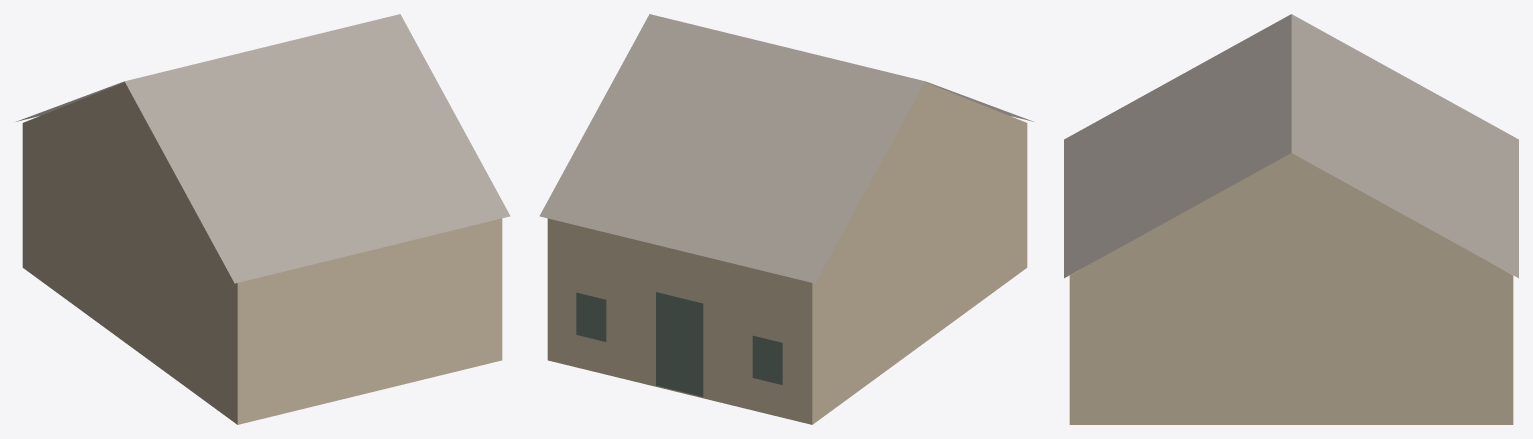
File: recon_1835_south_w1_023__recommended_1835.glb
3 views of the same model, side by side, from view 1: azimuth 30°, elevation 25°; view 2: azimuth 150°, elevation 25°; view 3: azimuth 270°, elevation 25° (orthographic). The views are drawn at different scales.
Visible parts, largest first — view 1: recon_1835_south_w1_023__recommended_1835; view 2: recon_1835_south_w1_023__recommended_1835; view 3: recon_1835_south_w1_023__recommended_1835.
Part boxes in pixels (box(x1,y1,x2,y2)): recon_1835_south_w1_023__recommended_1835: box(16, 14, 510, 424); recon_1835_south_w1_023__recommended_1835: box(539, 14, 1033, 424); recon_1835_south_w1_023__recommended_1835: box(1064, 14, 1518, 424).
Size of the model in its own units: 6.82 by 6.29 by 9.44.
